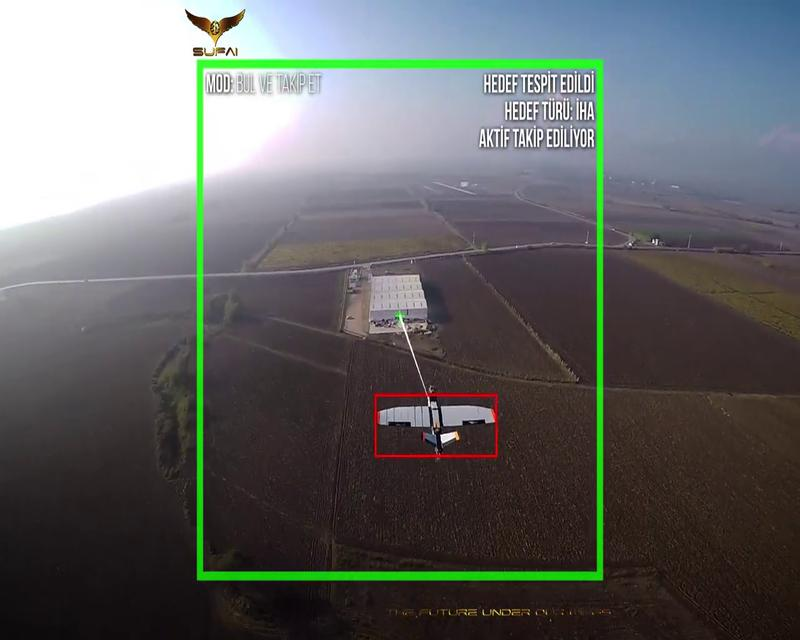UAV: (378, 396, 497, 458)
